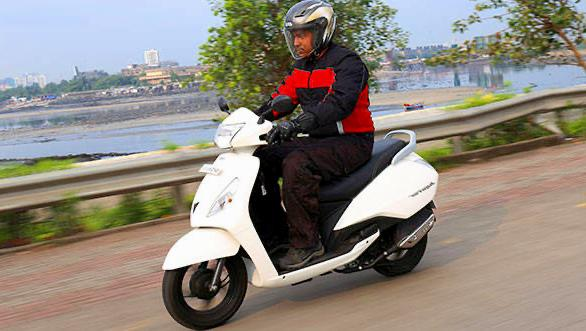With Helmet: (279, 0, 339, 63)
